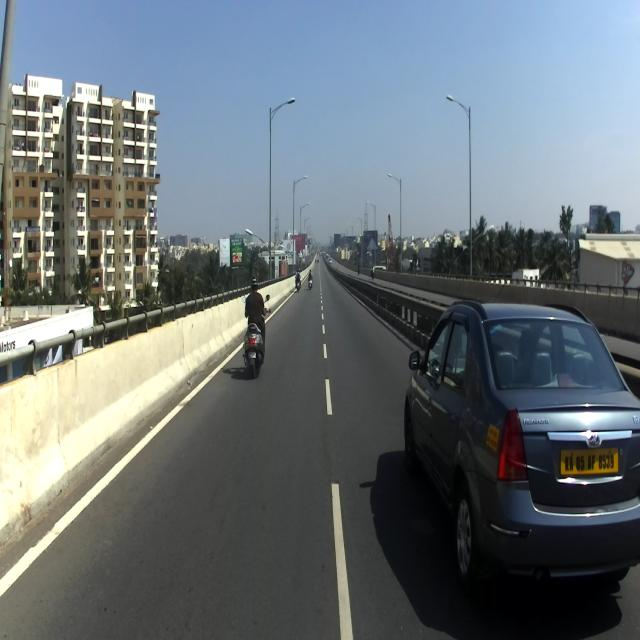car ahead at: (407, 291, 640, 598)
motorcycle ahead at: (242, 310, 272, 381)
